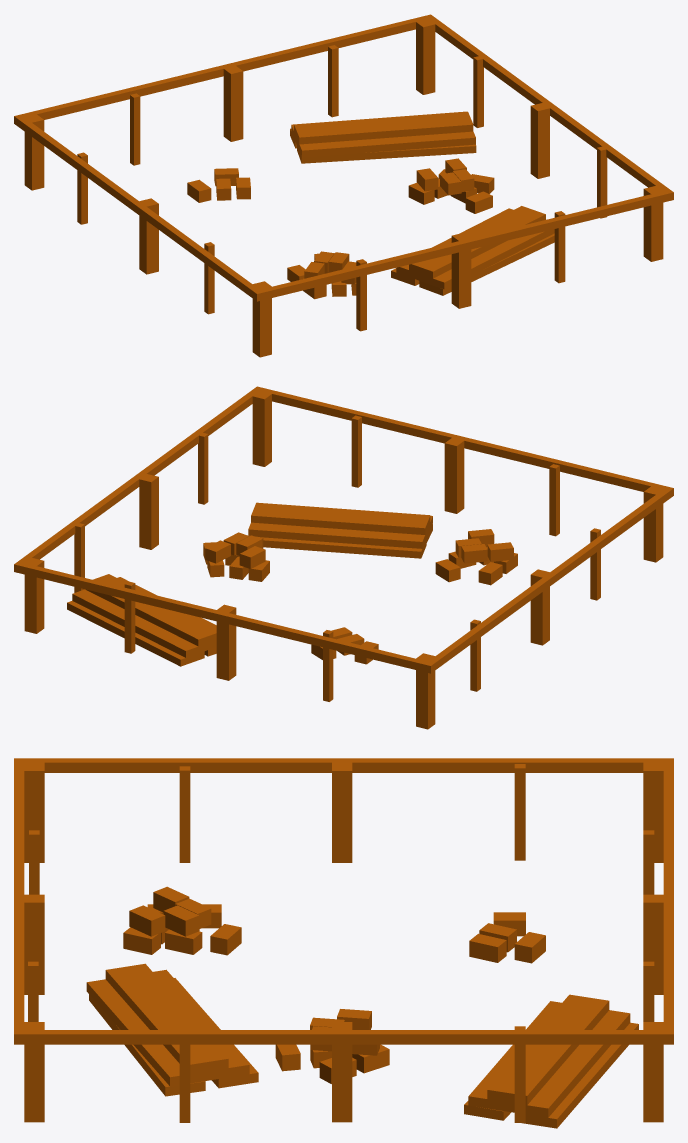
Rendered from Mine_build.fbx.
The picture shows the model from 3 angles, top to bottom: view 1: azimuth 30°, elevation 25°; view 2: azimuth 150°, elevation 25°; view 3: azimuth 270°, elevation 25°; orthographic projection. The views are drawn at different scales.
Parts seen in each view (by area): view 1: Cube, Cube.017, Cube.052, Cube.019, Cube.018, Cube.051, Cube.057, Cube.056, Cube.002, Cube.006, Cube.003, Cube.049 (+14 smaller); view 2: Cube.017, Cube, Cube.057, Cube.019, Cube.018, Cube.055, Cube.052, Cube.050, Cube.053, Cube.001, Cube.003, Cube.005 (+14 smaller); view 3: Cube.018, Cube.019, Cube.057, Cube.052, Cube, Cube.017, Cube.050, Cube.056, Cube.004, Cube.048, Cube.005, Cube.006 (+30 smaller).
Boxes of the visible parts, x1,y1,x2,y2 form: Cube: (253, 191, 667, 301); Cube.017: (14, 16, 427, 126); Cube.052: (294, 111, 473, 144); Cube.019: (18, 117, 259, 298); Cube.018: (424, 14, 673, 201); Cube.051: (296, 131, 475, 157); Cube.057: (409, 206, 545, 278); Cube.056: (420, 229, 554, 289); Cube.002: (223, 66, 243, 141); Cube.006: (416, 19, 435, 94); Cube.003: (530, 103, 549, 178); Cube.049: (297, 144, 476, 163); Cube.017: (20, 563, 434, 673); Cube: (260, 388, 673, 498); Cube.057: (251, 502, 430, 534); Cube.019: (428, 489, 669, 670); Cube.018: (14, 386, 263, 573); Cube.055: (248, 522, 427, 548); Cube.052: (86, 574, 216, 646); Cube.050: (72, 589, 209, 657); Cube.053: (262, 537, 426, 558); Cube.001: (444, 438, 464, 513); Cube.003: (139, 474, 158, 549); Cube.005: (252, 391, 271, 466); Cube.018: (14, 1030, 673, 1044); Cube.019: (24, 758, 663, 772); Cube.057: (105, 963, 228, 1073); Cube.052: (487, 994, 609, 1105); Cube: (14, 758, 24, 1029); Cube.017: (663, 758, 673, 1029); Cube.050: (508, 1010, 630, 1117); Cube.056: (86, 979, 209, 1086); Cube.004: (332, 762, 352, 862); Cube.048: (522, 1022, 638, 1128); Cube.005: (24, 1022, 44, 1122); Cube.006: (643, 1022, 663, 1122).
Size of the model in its own units: 2126 by 362 by 2147.
